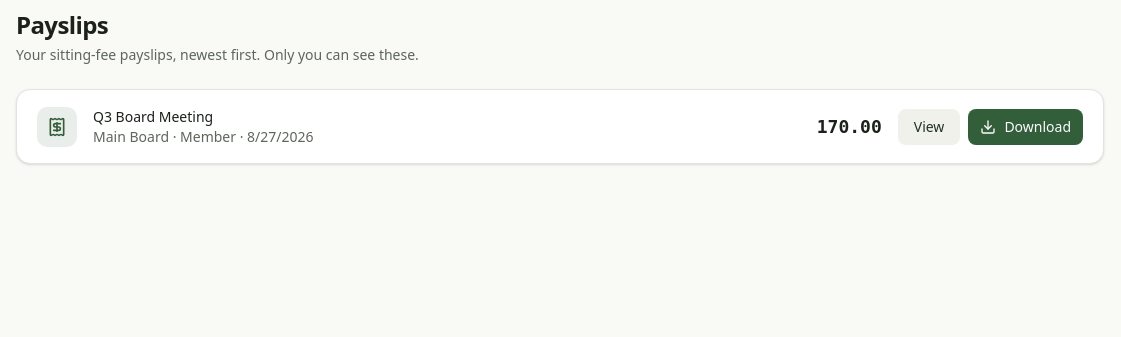
Test: MemberPayslips › viewing a payslip marks it Viewed
Expected: the text "Q3 Board Meeting" is shown, top-left (93, 107), bottom-right (213, 126)
Click the button "View" at (929, 126), box top-left (898, 108), bottom-right (960, 144)
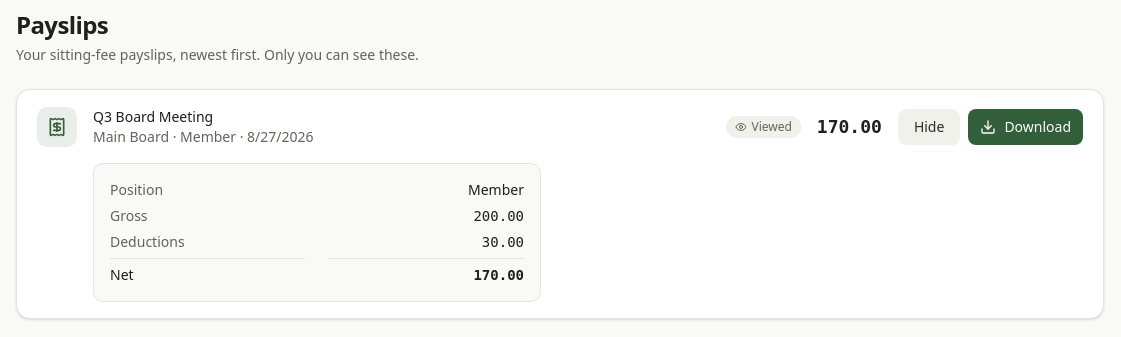
Result: the text "Viewed" is shown at top-left (726, 116), bottom-right (801, 138)
